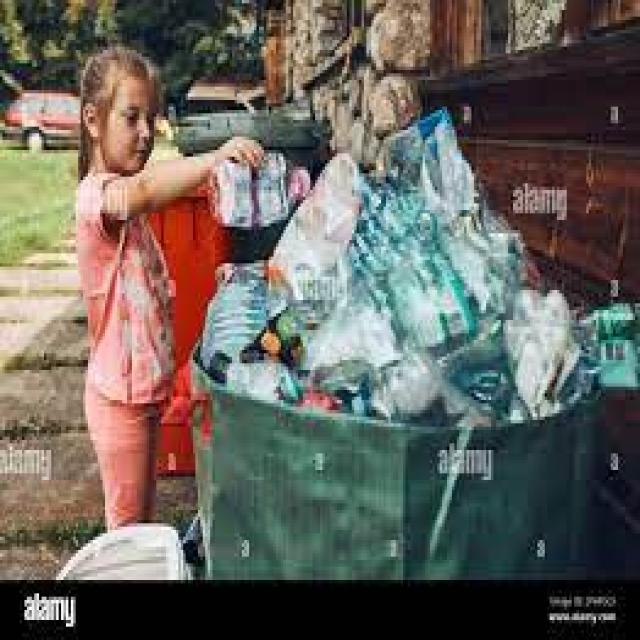plastic: (205, 250, 633, 383), (210, 147, 332, 233)
